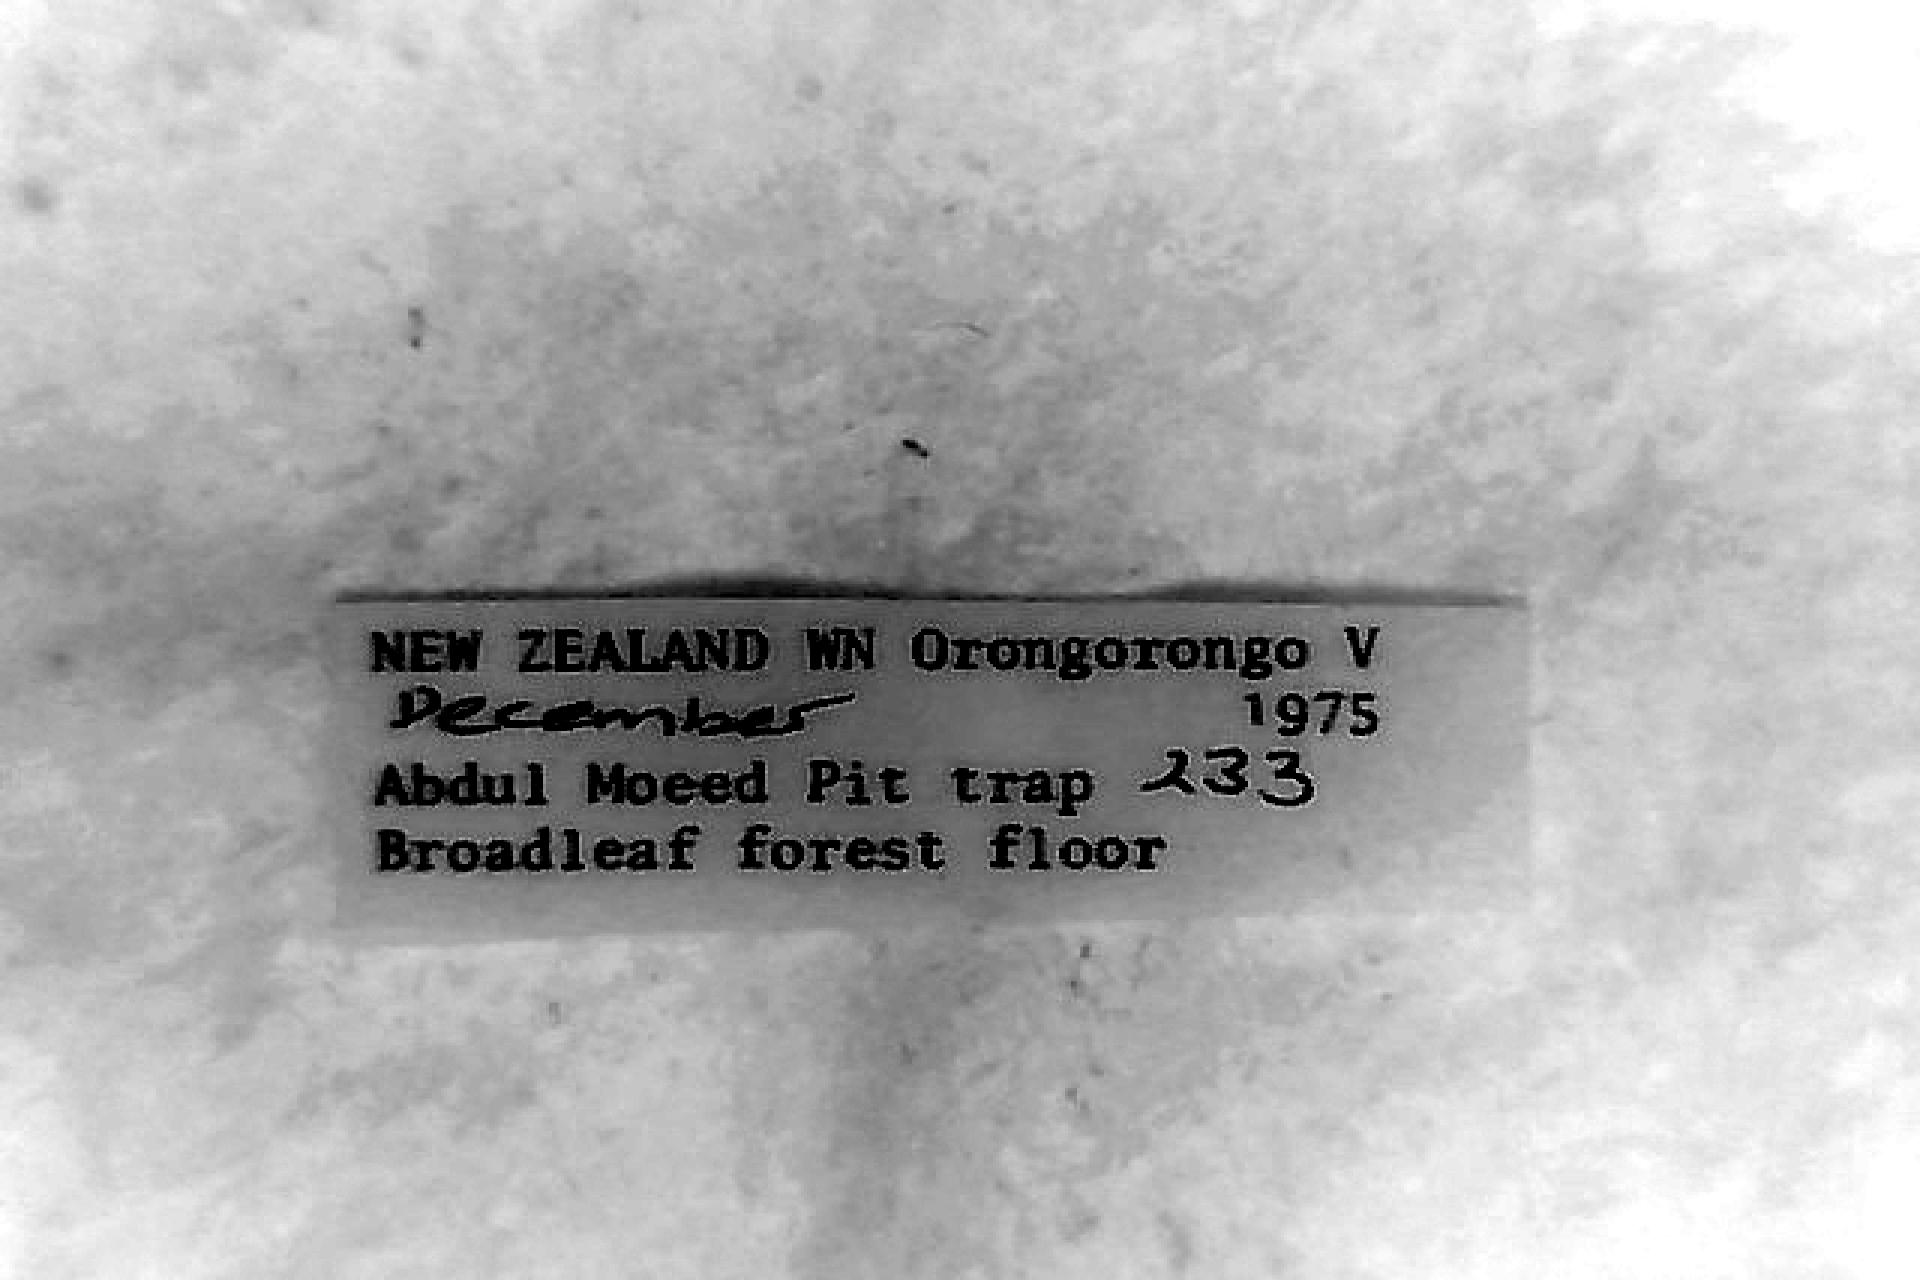mixed_label: (334, 593, 1526, 937)
